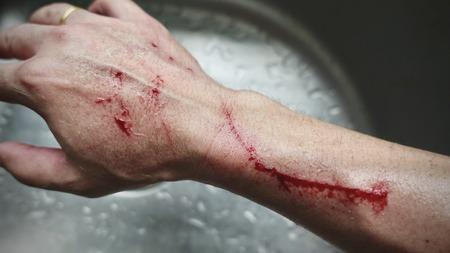Fire: (224, 108, 390, 215), (93, 67, 172, 142), (148, 36, 202, 80)
